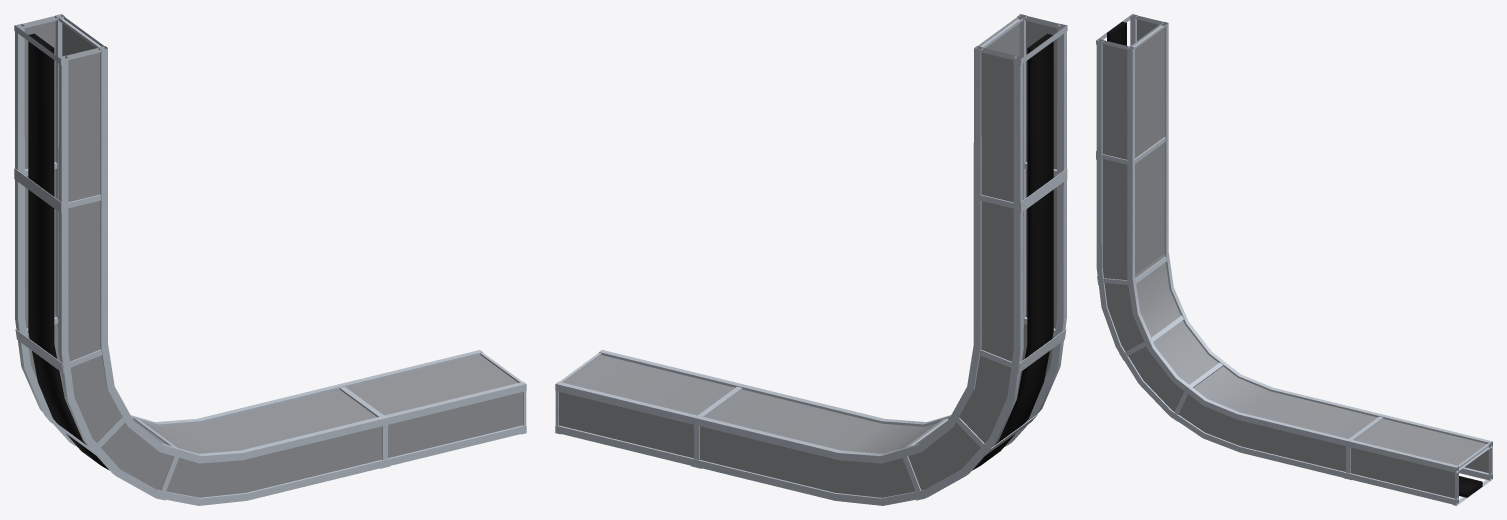
Rendered from SM05_Industrial_CableTray_01_Corner_02.fbx.
The picture shows the model from 3 angles, left to right: view 1: azimuth 30°, elevation 25°; view 2: azimuth 150°, elevation 25°; view 3: azimuth 330°, elevation 25°; orthographic projection. The views are drawn at different scales.
Parts seen in each view (by area): view 1: SM05_Industrial_CableTray_01_Corner_02; view 2: SM05_Industrial_CableTray_01_Corner_02; view 3: SM05_Industrial_CableTray_01_Corner_02.
Part boxes in pixels (<box>): SM05_Industrial_CableTray_01_Corner_02: <box>14,14,526,505</box>; SM05_Industrial_CableTray_01_Corner_02: <box>555,14,1067,505</box>; SM05_Industrial_CableTray_01_Corner_02: <box>1096,14,1492,505</box>.
Size of the model in its own units: 3.75 by 3.75 by 0.6514.
